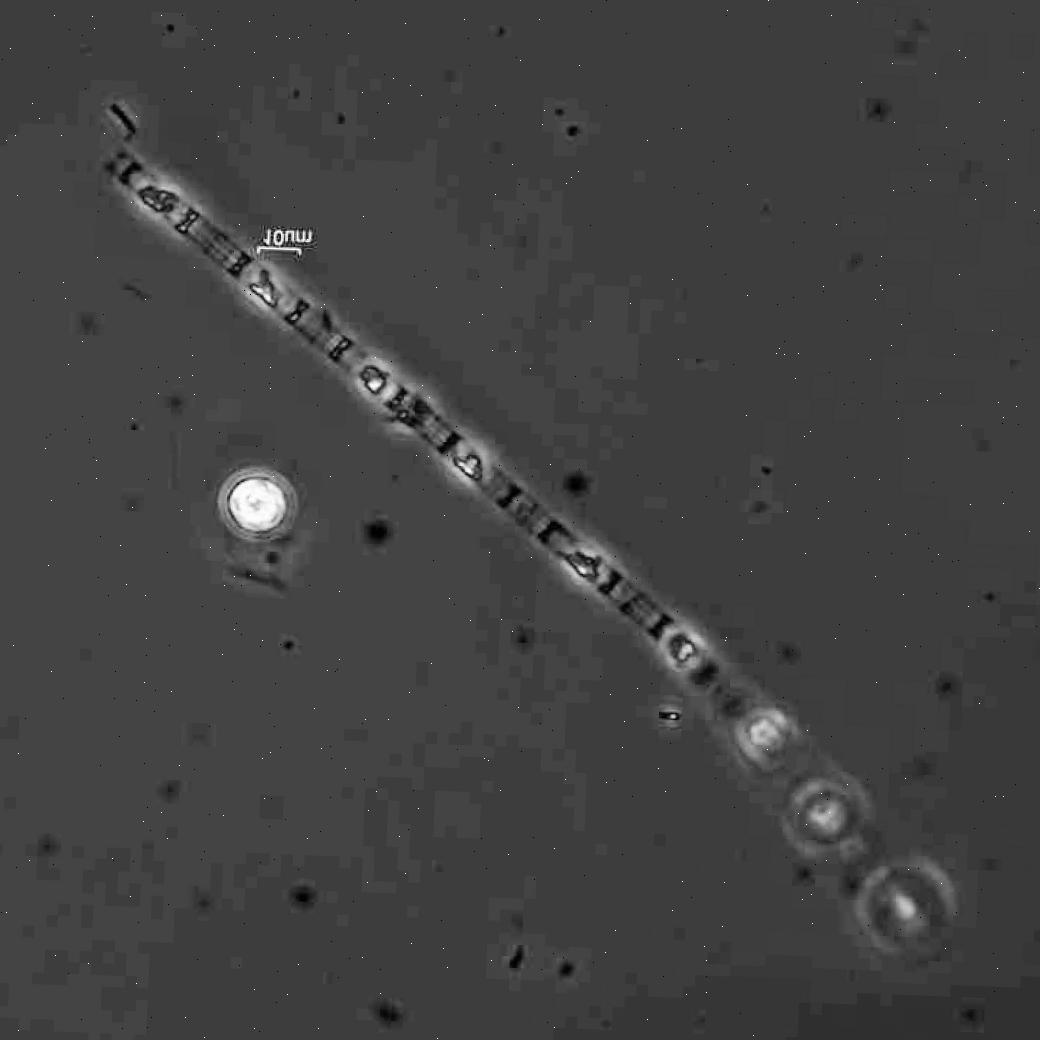skeletonema_costatum: (109, 151, 721, 691)
